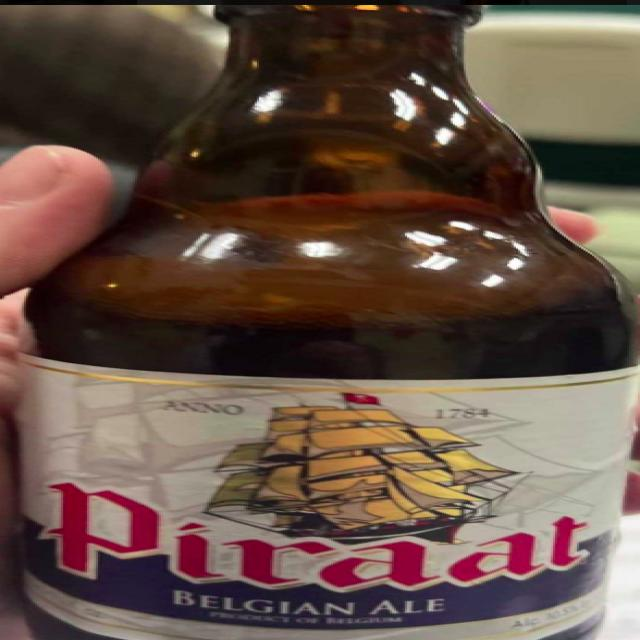VAN STEENBERGE PIRAAT: (2, 0, 640, 640)
